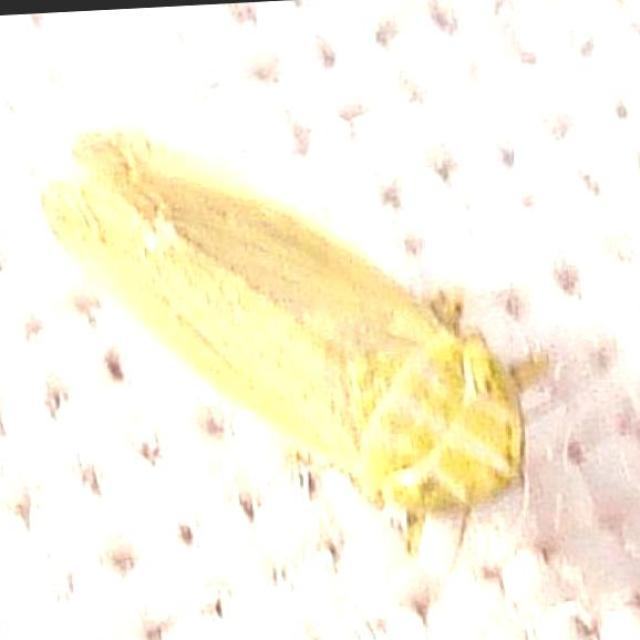green leaf hopper: (43, 132, 546, 546)
